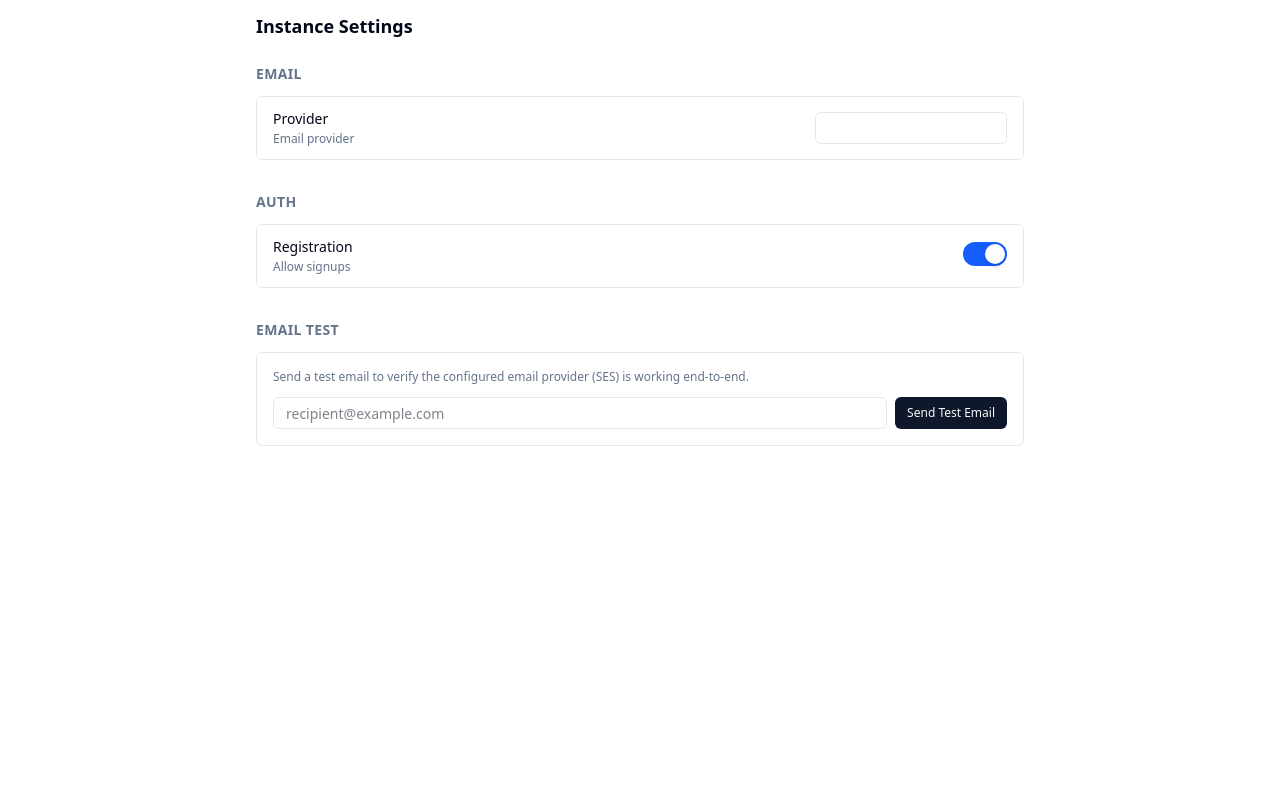
Test: AdminSettingsPage › shows an error toast when setAdminSetting throws
Click the switch named "registration": click(985, 254) left=963, top=242, right=1007, bottom=266
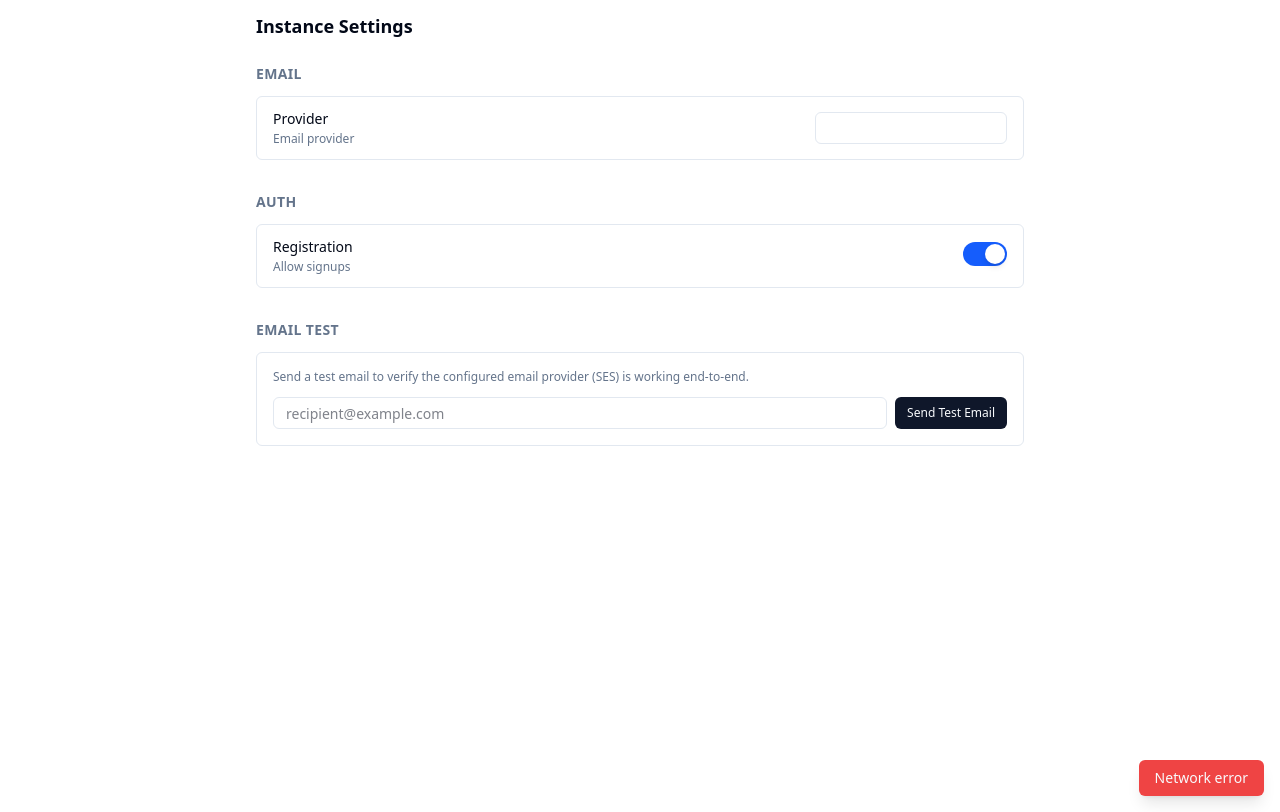
expect the text "Network error" is shown: met, box left=1139, top=760, right=1264, bottom=796
